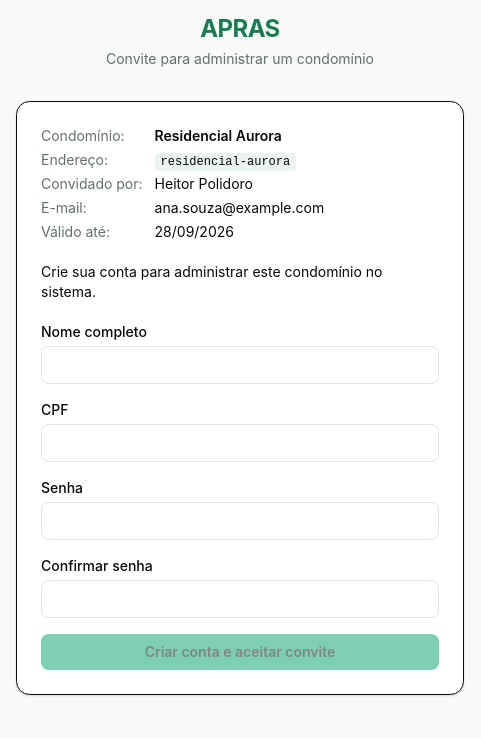
Scenario: AcceptInvitationPage — the two meanings of 409 on accept › keeps the form and blames the CPF when the follow-up preview still answers 200
Expected: the element with test id "invitation-preview" is shown, [41,127,324,240]
Type "Ana Souza" into the field labelled "Nome completo" at (240, 365), box [41,346,439,384]
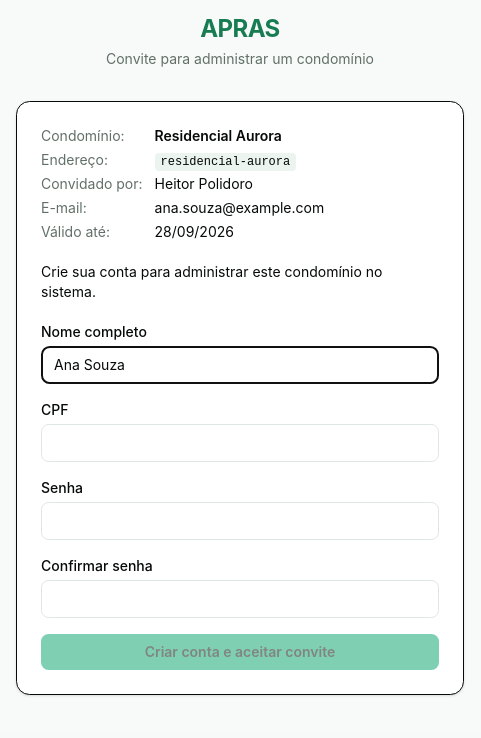
Type "529.982.247-25" into the field labelled "CPF" at (240, 443), box [41,424,439,462]
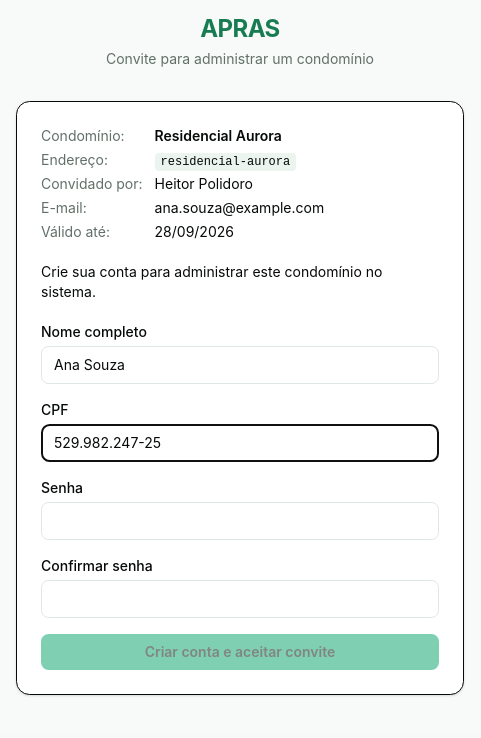
Type "Senha!123" into the password field labelled "Senha" at (240, 521), box [41,502,439,540]
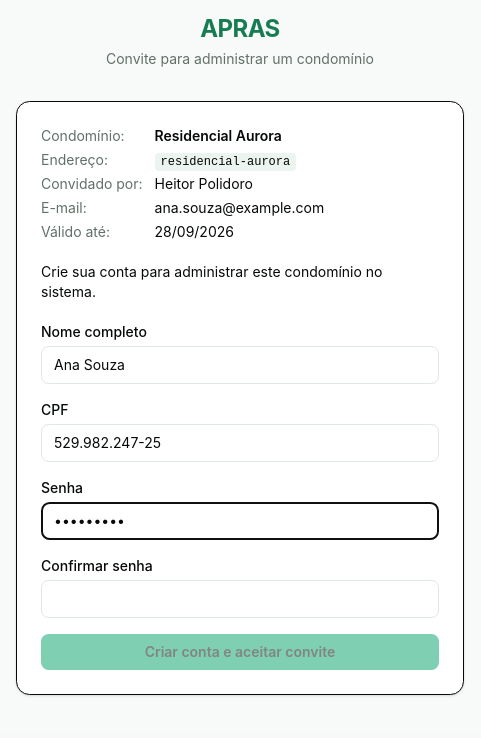
Type "Senha!123" into the password field labelled "Confirmar senha" at (240, 599), box [41,580,439,618]
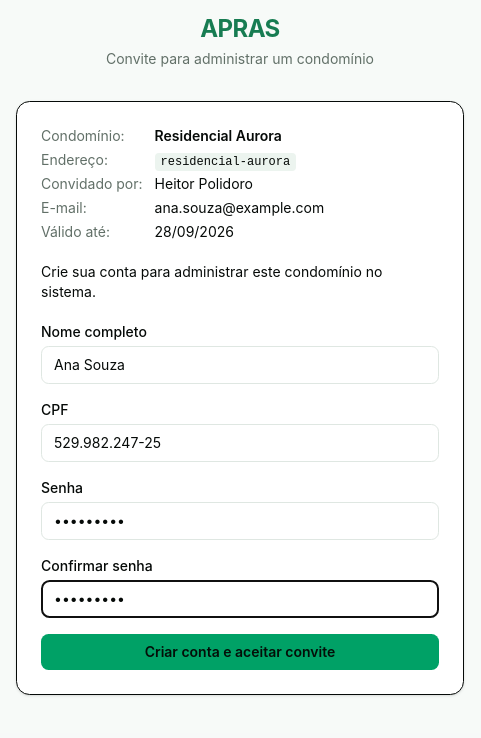
Click the button "Criar conta e aceitar convite" at (240, 652), box [41,634,439,670]
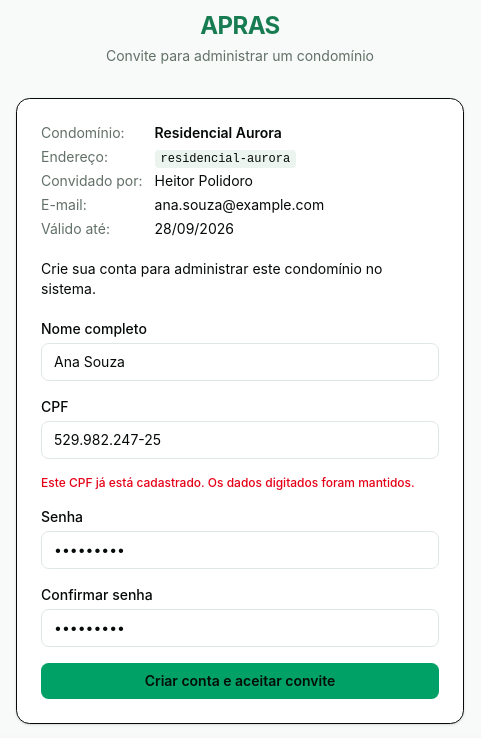
Expected: the text "Este CPF já está cadastrado. Os dados digitados foram mantidos." is shown, [41,475,439,491]
